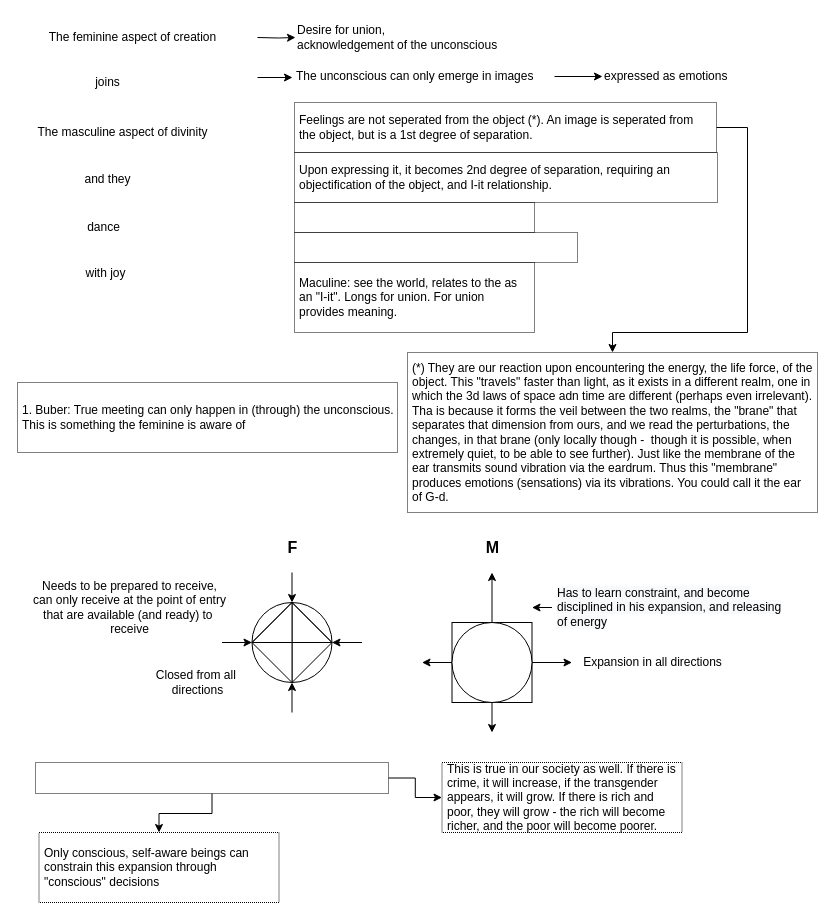
Image size: 835x920. Some labels were removed from this diagram. The centre of each missing label's shape, as x and y in pixels:
"Everything living expands, unless acted on/constrained by an external force." goes at point 211,778.
"Math: find symbolic ways of expressing thought." goes at point 436,247.
"To express it, requires a protocol, etc" goes at point 414,217.
